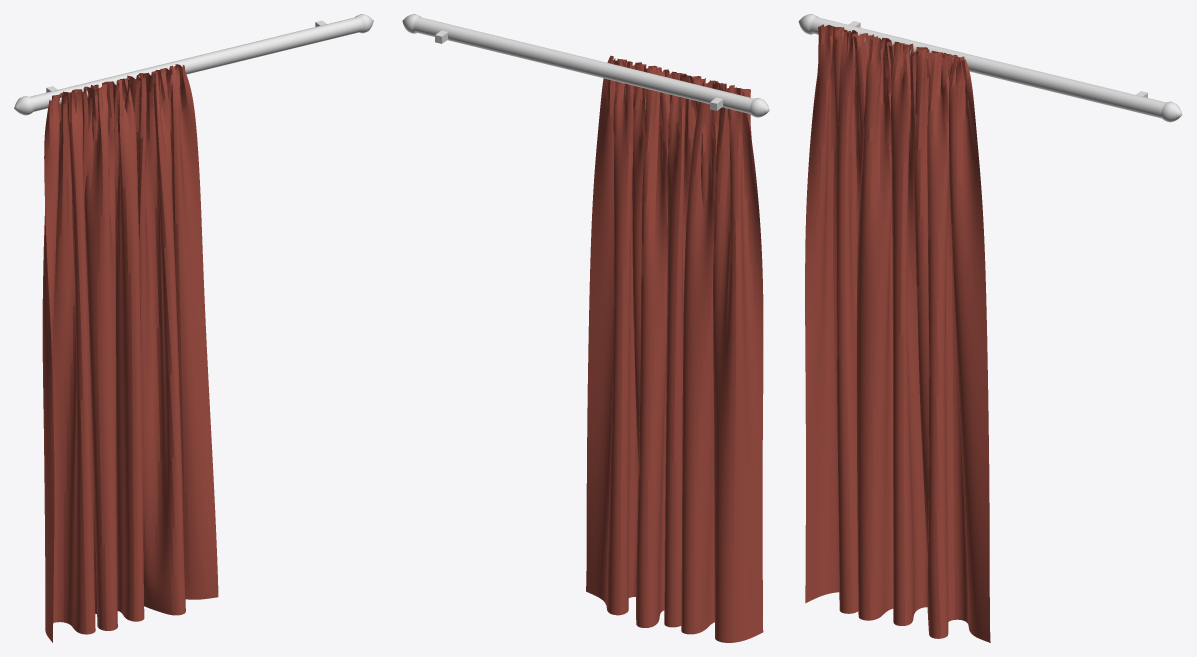
Rendered from curtain.fbx.
The picture shows the model from 3 angles, left to right: view 1: azimuth 30°, elevation 25°; view 2: azimuth 150°, elevation 25°; view 3: azimuth 330°, elevation 25°; orthographic projection. The views are drawn at different scales.
Visible parts, largest first — view 1: curtain, bar; view 2: curtain, bar; view 3: curtain, bar.
Boxes of the visible parts, <box> form: curtain: <box>42,64,218,642</box>; bar: <box>14,14,373,115</box>; curtain: <box>586,55,763,642</box>; bar: <box>402,14,769,117</box>; curtain: <box>805,24,990,642</box>; bar: <box>798,14,1182,122</box>.
Bounding box in the file's own units: 214 × 305 × 30.77.
